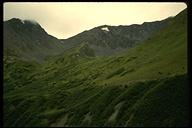mountain: (3, 13, 186, 124)
sky: (46, 5, 140, 23)
